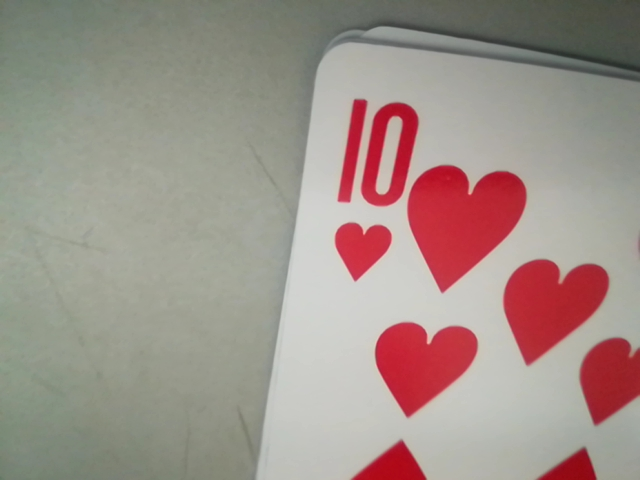hx 10: (334, 97, 419, 282)
